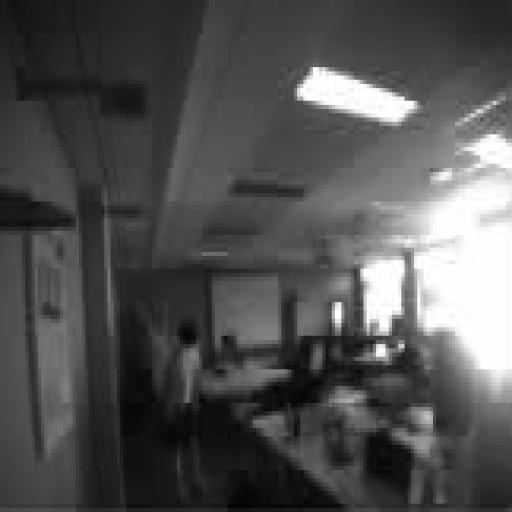human: (165, 319, 205, 499)
